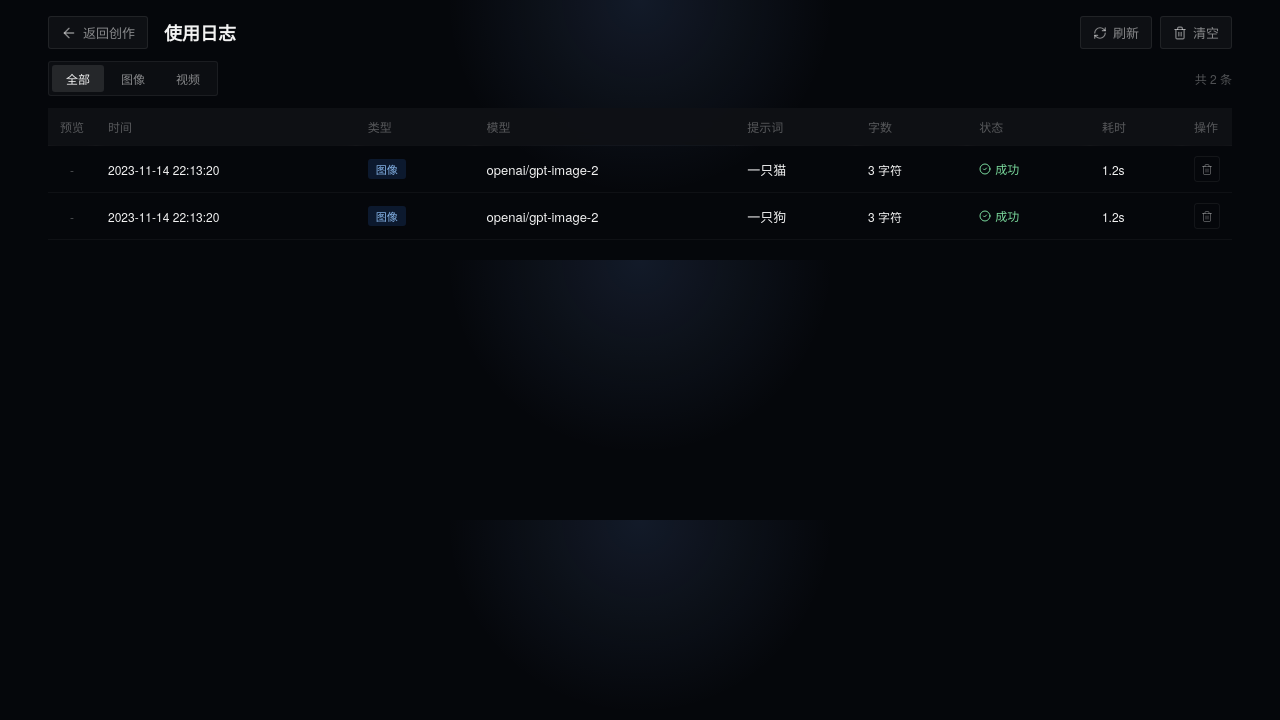
Test: UsageLogPage › 点击行内删除按钮删除单条日志并从列表移除
Check: the number of rows with class "log-row" is 2, box x1=48 y1=146 x2=1232 y2=192; x1=48 y1=192 x2=1232 y2=240
# 点击第一行的删除按钮（row-delete-btn，点击事件已 stop 防止触发选行）
Click the button with class "row-delete-btn" in the row of "一只猫".
click(1207, 169)  # box x1=1194 y1=156 x2=1220 y2=182
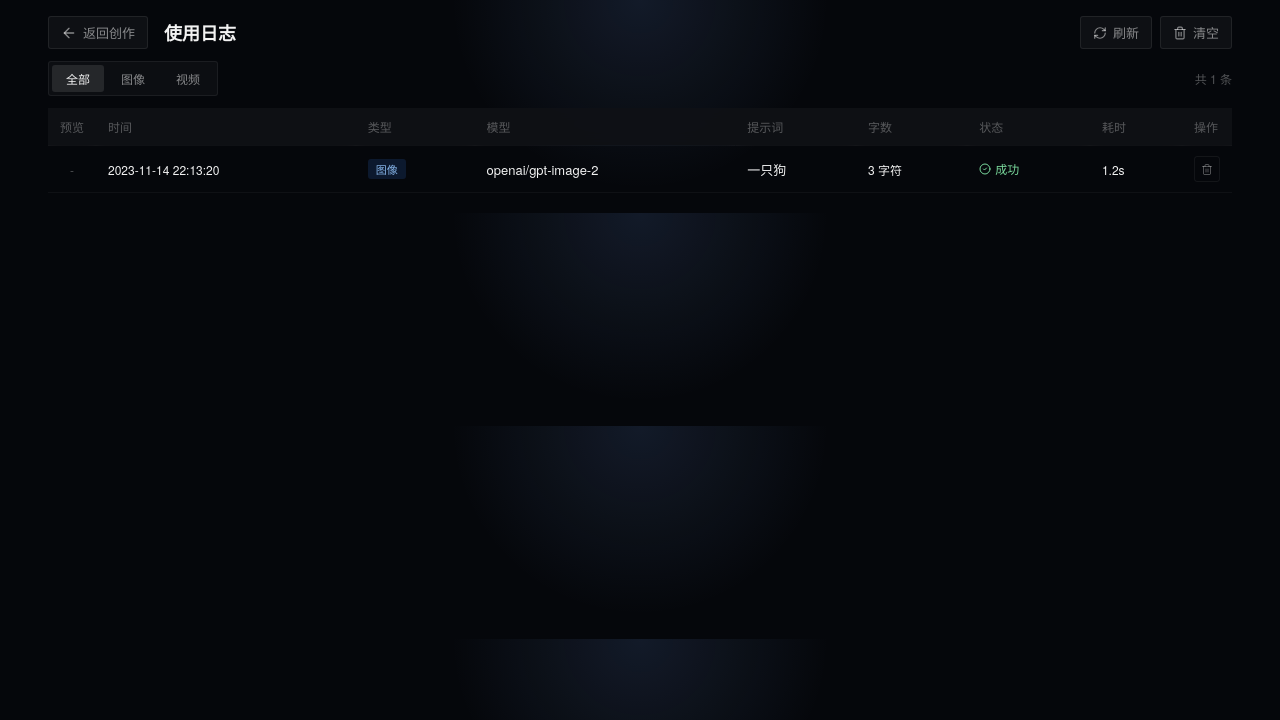
Check: the number of rows with class "log-row" is 1, box x1=48 y1=146 x2=1232 y2=192
Check: the text "一只猫" is gone
